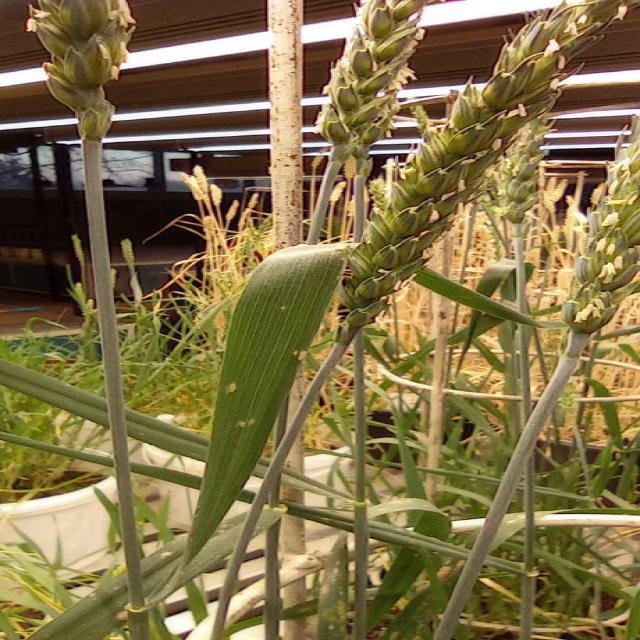wheat-powdery-mildew: (238, 417, 259, 431), (227, 384, 237, 405)
